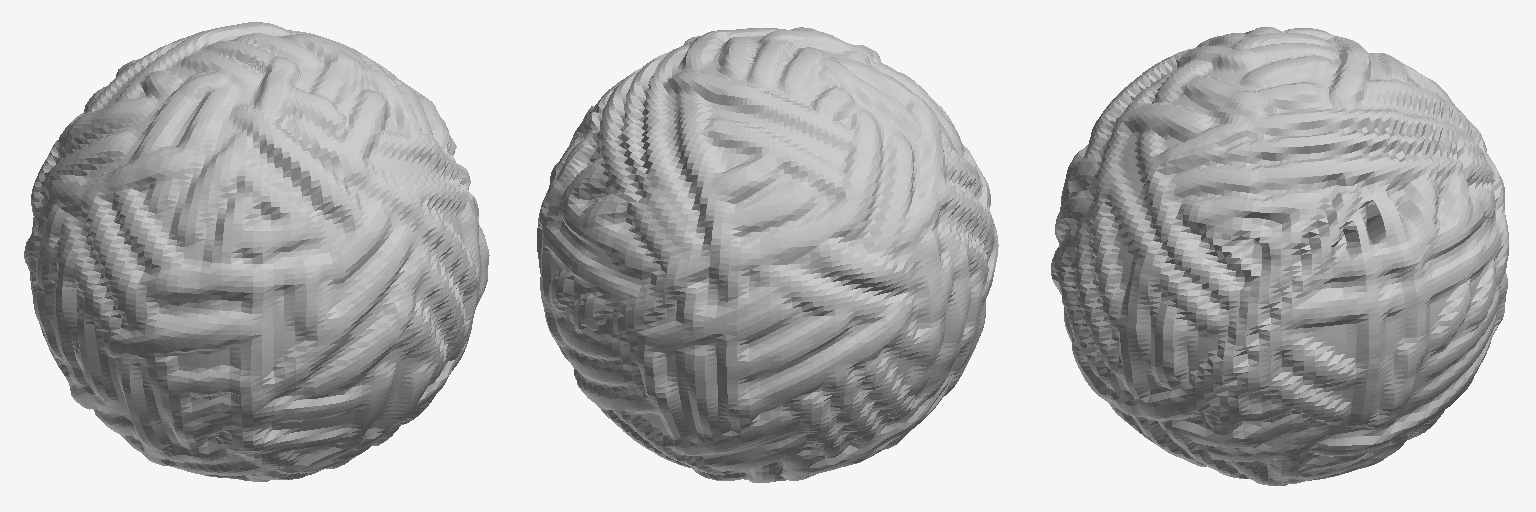
The model's file is ballDetailed.obj.
3 views of the same model, side by side, from view 1: azimuth 30°, elevation 25°; view 2: azimuth 150°, elevation 25°; view 3: azimuth 270°, elevation 25° (orthographic).
Visible parts, largest first — view 1: pSphere2; view 2: pSphere2; view 3: pSphere2.
Part boxes in pixels (bbox=[...]): pSphere2: bbox=[24, 22, 489, 481]; pSphere2: bbox=[537, 27, 998, 482]; pSphere2: bbox=[1051, 27, 1508, 485].
Size of the model in its own units: 1.05 by 1.04 by 1.04.